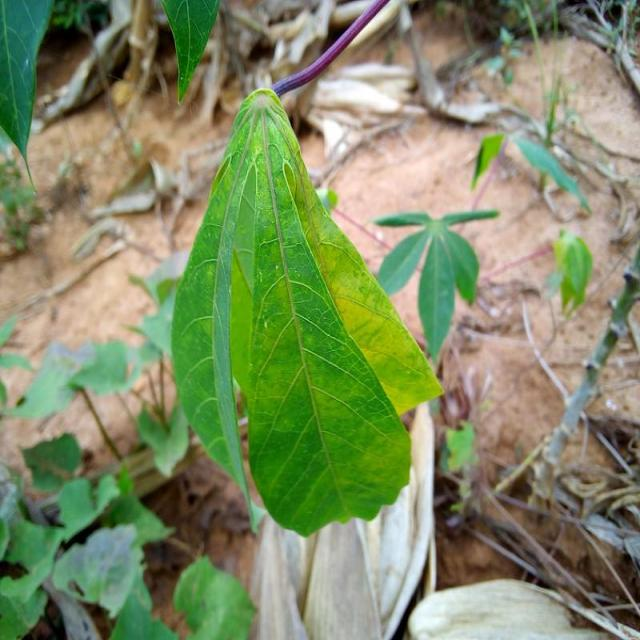cassava leaf: (170, 85, 444, 538)
